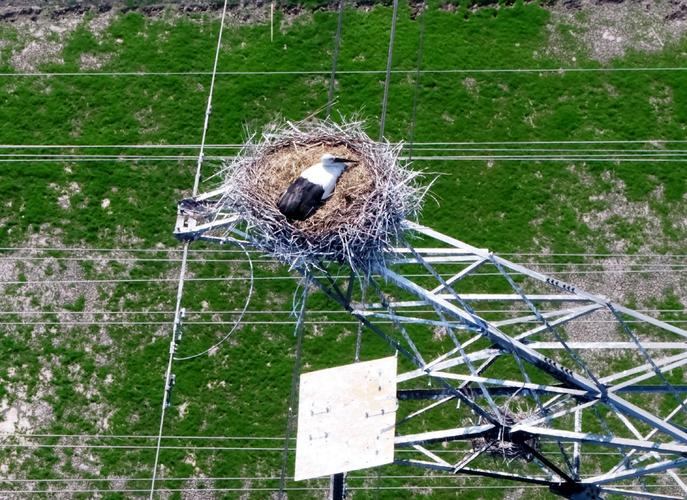niaowo: (216, 116, 443, 287)
